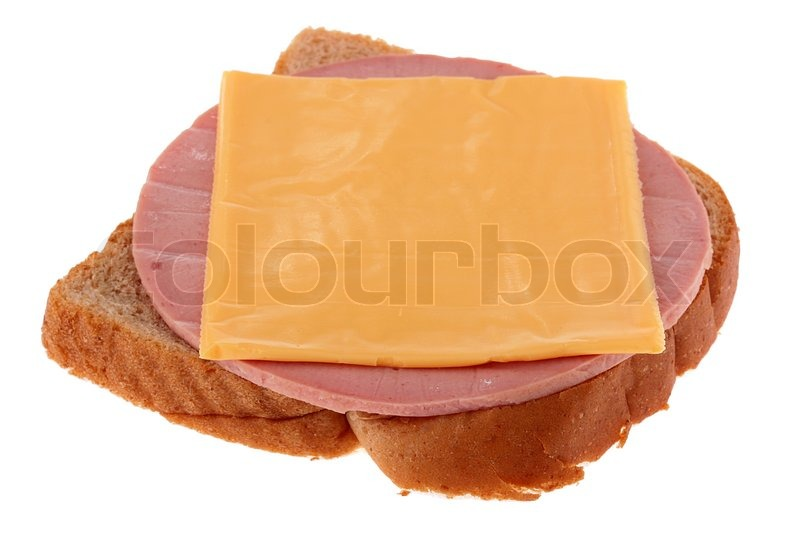slice of bread: (40, 30, 740, 502)
